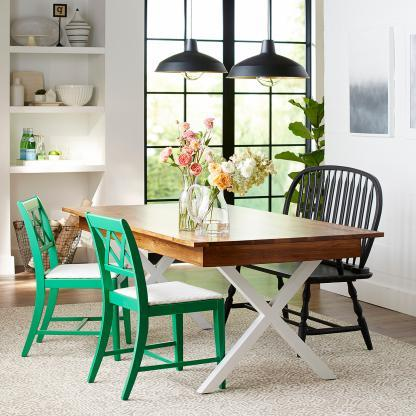chair: (231, 155, 378, 344), (88, 217, 220, 377), (12, 193, 94, 364)
door: (229, 0, 310, 221), (138, 5, 224, 199)
light: (226, 5, 312, 92), (154, 3, 225, 88)
table: (59, 199, 383, 394)
